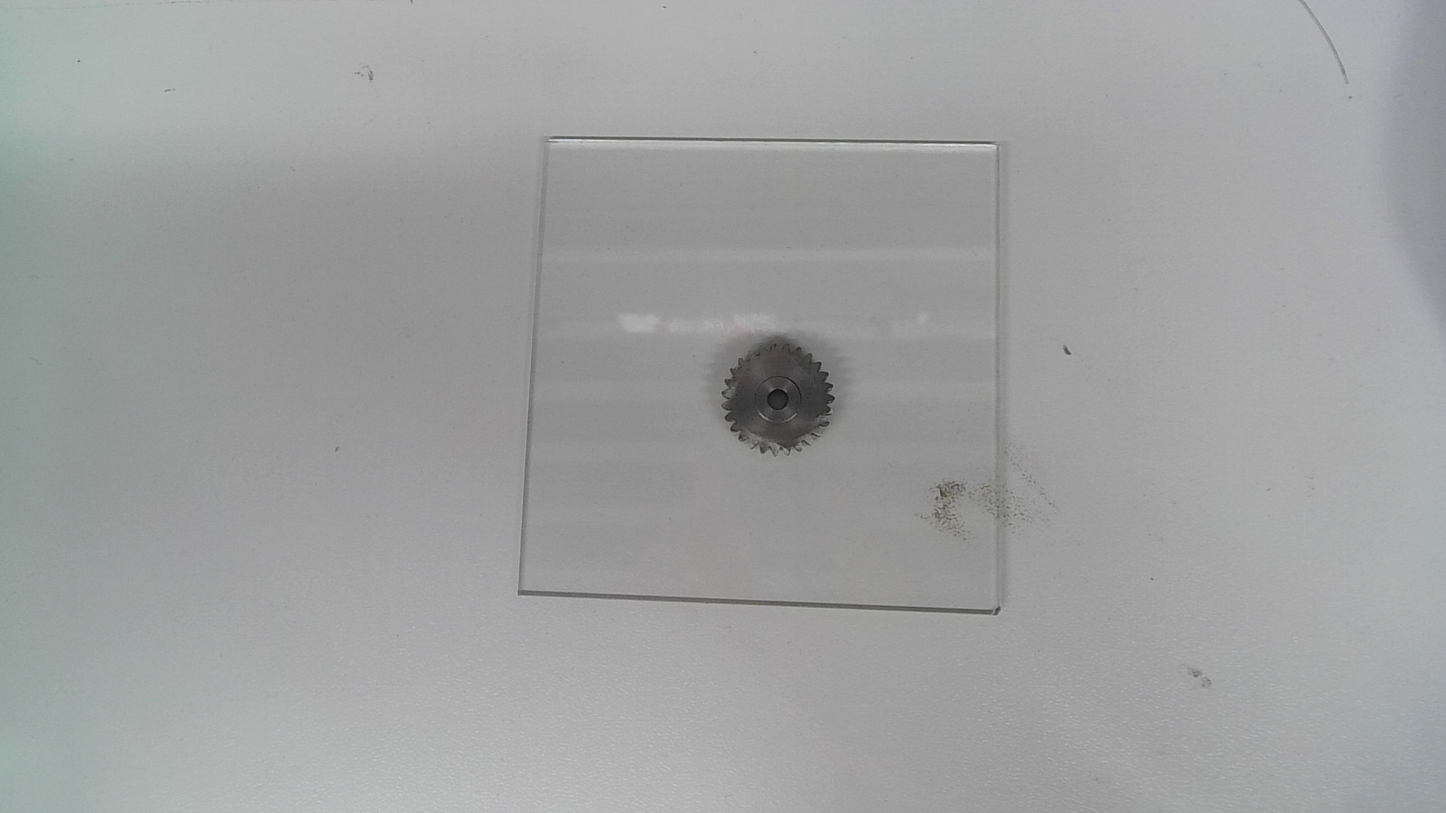gear: (718, 339, 836, 458)
